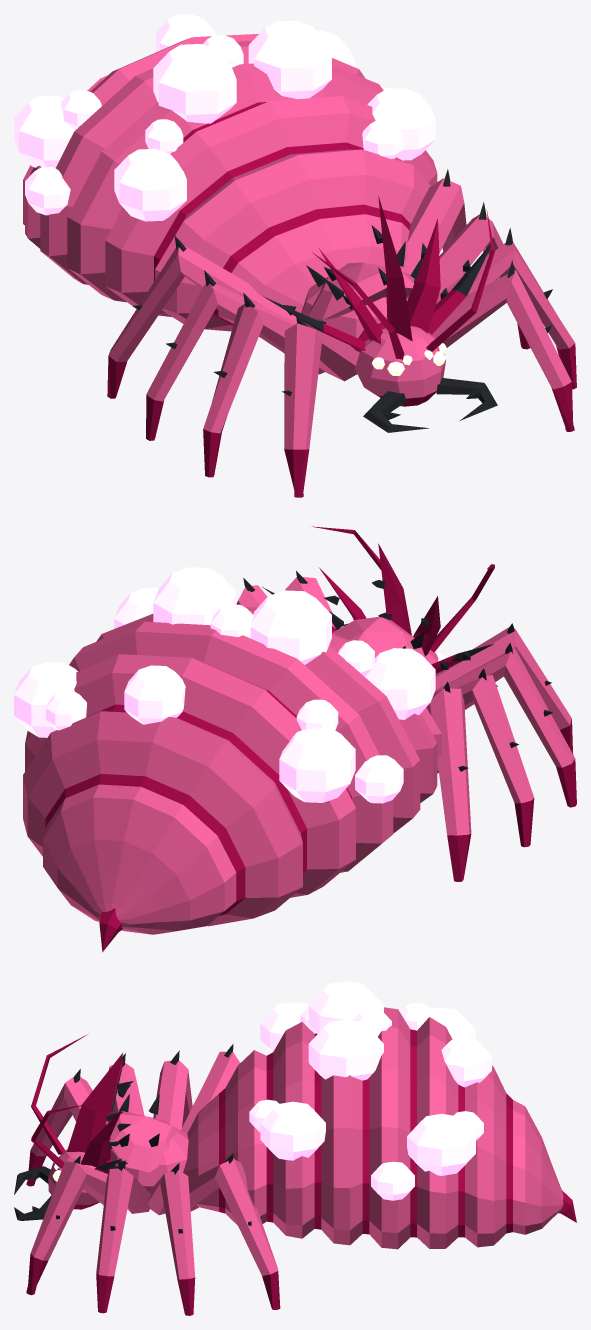
Rendered from broodMother.glb.
3 renders of one model, top to bottom at view 1: azimuth 30°, elevation 25°; view 2: azimuth 150°, elevation 25°; view 3: azimuth 270°, elevation 25°, orthographic. The views are drawn at different scales.
Parts seen in each view (by area): view 1: pulse_abdomen, body, leg_R1, pulse_egg_7, leg_R4, leg_L1, pulse_egg_5, leg_R2, pulse_egg_3, leg_R3, leg_L2, leg_L4 (+14 smaller); view 2: pulse_abdomen, body, leg_R4, pulse_egg_10, pulse_egg_7, leg_R2, leg_R3, pulse_egg_5, pulse_egg_3, leg_R1, pulse_egg_12, pulse_egg_8 (+9 smaller); view 3: pulse_abdomen, body, leg_L4, leg_L2, leg_L1, pulse_egg_5, leg_L3, pulse_egg_8, pulse_egg_1, pulse_egg_7, leg_R3, leg_R1 (+13 smaller).
Part boxes in pixels (bbox=[...]): pulse_abdomen: bbox=[23, 34, 437, 331]; body: bbox=[263, 196, 494, 406]; leg_R1: bbox=[282, 313, 359, 497]; pulse_egg_7: bbox=[153, 44, 236, 123]; leg_R4: bbox=[107, 235, 296, 398]; leg_L1: bbox=[432, 260, 574, 431]; pulse_egg_5: bbox=[248, 20, 331, 99]; leg_R2: bbox=[203, 293, 324, 477]; pulse_egg_3: bbox=[114, 148, 186, 221]; leg_R3: bbox=[146, 270, 296, 440]; leg_L2: bbox=[436, 228, 576, 389]; leg_L4: bbox=[401, 169, 470, 275]; pulse_abdomen: bbox=[23, 606, 441, 934]; body: bbox=[262, 543, 494, 673]; leg_R4: bbox=[426, 681, 471, 881]; pulse_egg_10: bbox=[279, 728, 355, 802]; pulse_egg_7: bbox=[250, 590, 331, 664]; leg_R2: bbox=[434, 643, 576, 807]; leg_R3: bbox=[456, 668, 534, 847]; pulse_egg_5: bbox=[153, 567, 236, 625]; pulse_egg_3: bbox=[364, 648, 435, 719]; leg_R1: bbox=[435, 623, 573, 754]; pulse_egg_12: bbox=[124, 665, 185, 724]; pulse_egg_8: bbox=[14, 662, 77, 737]; pulse_abdomen: bbox=[183, 1007, 563, 1249]; body: bbox=[48, 1053, 188, 1209]; leg_L4: bbox=[188, 1153, 280, 1309]; leg_L2: bbox=[96, 1160, 150, 1313]; leg_L1: bbox=[26, 1156, 107, 1295]; pulse_egg_5: bbox=[308, 1019, 383, 1080]; leg_L3: bbox=[148, 1163, 195, 1315]; pulse_egg_8: bbox=[407, 1113, 475, 1175]; pulse_egg_1: bbox=[260, 1101, 325, 1160]; pulse_egg_7: bbox=[308, 981, 383, 1033]; leg_R3: bbox=[153, 1050, 192, 1130]; leg_R1: bbox=[26, 1069, 92, 1186].
Size of the model in its own units: 24.4 by 17.39 by 37.6.
